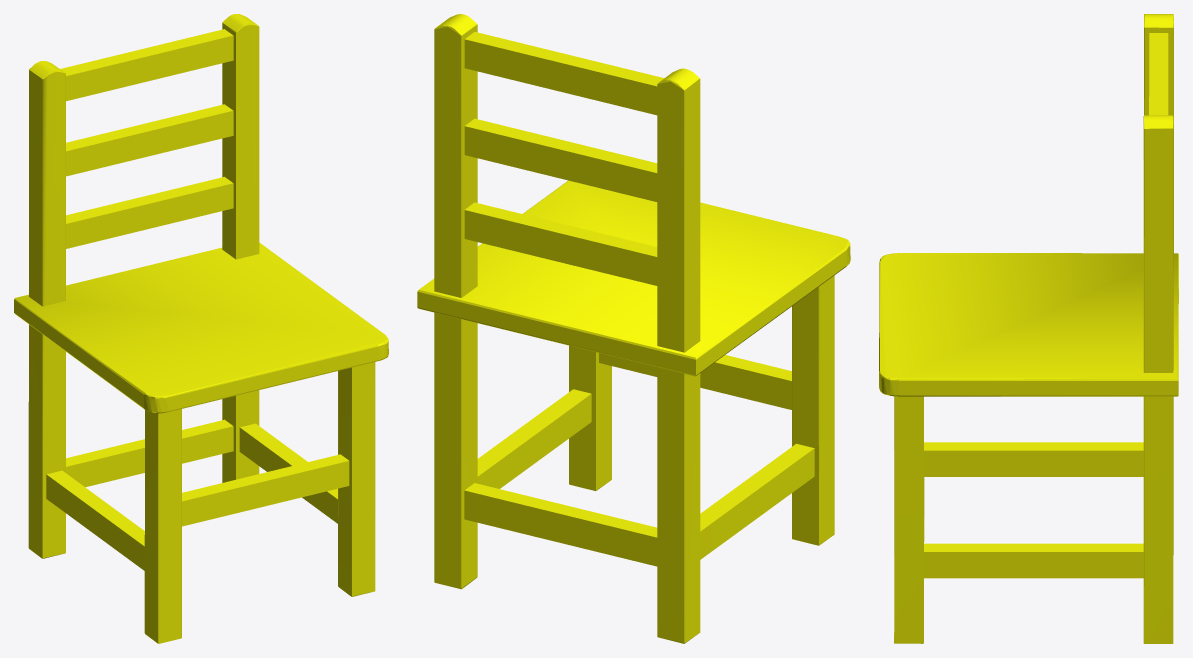
Rendered from Chair 1.FBX.
3 renders of one model, left to right at view 1: azimuth 30°, elevation 25°; view 2: azimuth 150°, elevation 25°; view 3: azimuth 270°, elevation 25°, orthographic. The views are drawn at different scales.
Parts seen in each view (by area): view 1: chair 1; view 2: chair 1; view 3: chair 1.
Boxes of the visible parts, left/top/right/bottom form: chair 1: left=14, top=14, right=388, bottom=643; chair 1: left=417, top=14, right=850, bottom=643; chair 1: left=879, top=14, right=1178, bottom=643.
Bounding box in the file's own units: 41.28 × 79.16 × 41.28.
Materials: 1 (1 with a texture image).
